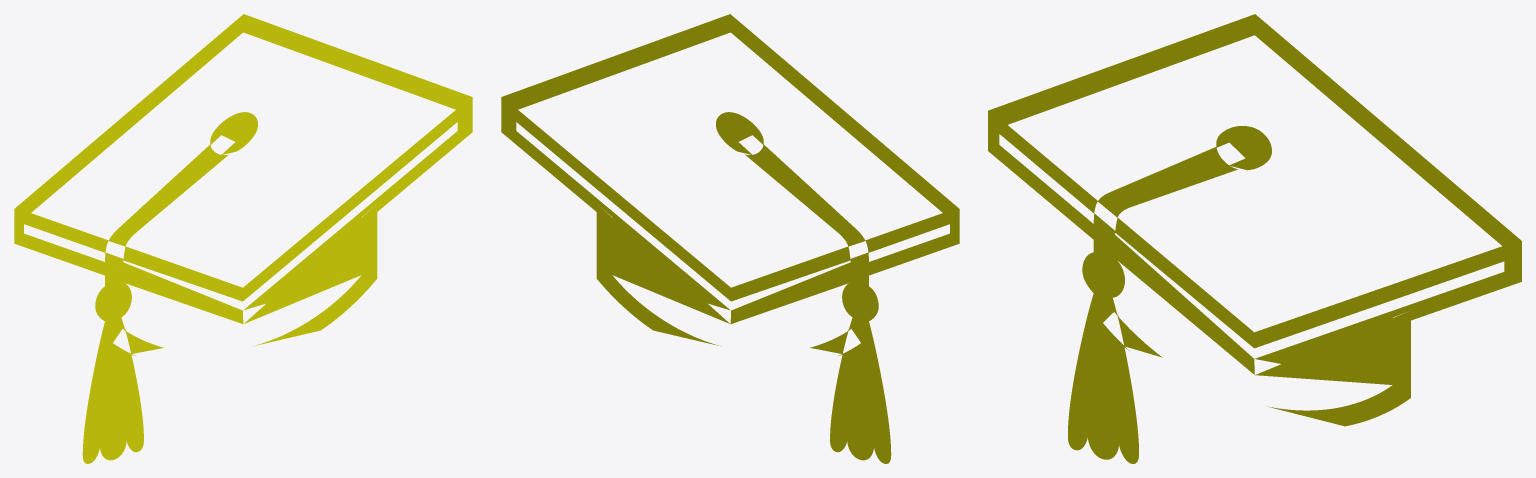
Rendered from graduation_cap.glb.
The picture shows the model from 3 angles, left to right: view 1: azimuth 30°, elevation 25°; view 2: azimuth 150°, elevation 25°; view 3: azimuth 330°, elevation 25°; orthographic projection. The views are drawn at different scales.
Parts seen in each view (by area): view 1: Text.807_807; view 2: Text.807_807; view 3: Text.807_807.
Part boxes in pixels (x1,y1,x2,y2): Text.807_807: (14,14,472,463); Text.807_807: (501,14,959,463); Text.807_807: (988,14,1521,463).
Size of the model in its own units: 1.18 by 1.02 by 3.6e-06.
